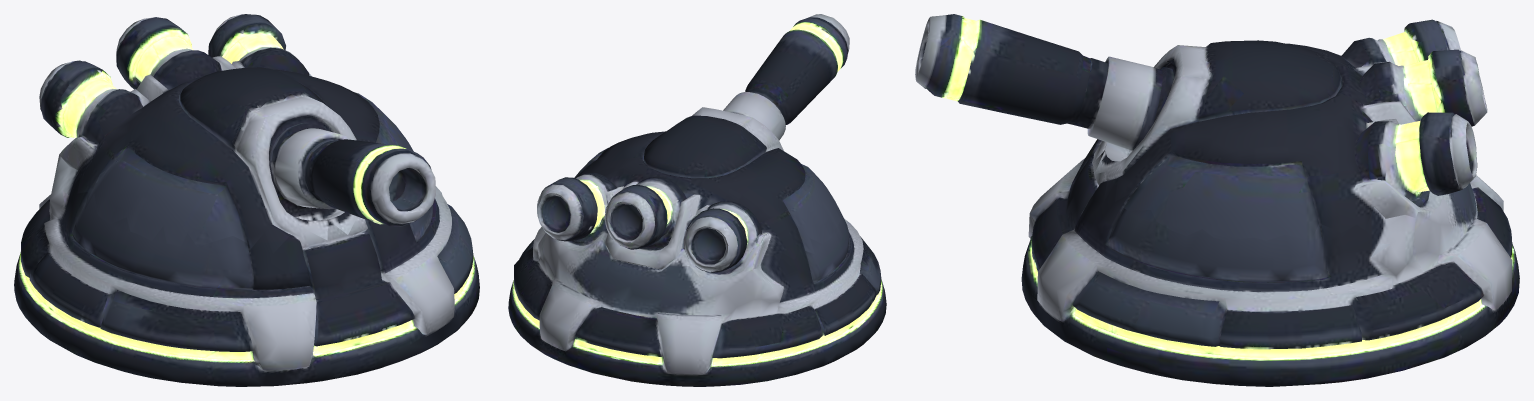
The model's file is warrior-6-tier-2.glb.
3 views of the same model, side by side, from view 1: azimuth 30°, elevation 25°; view 2: azimuth 150°, elevation 25°; view 3: azimuth 270°, elevation 25° (orthographic). The views are drawn at different scales.
Parts seen in each view (by area): view 1: fixed-platform, moving-assembly; view 2: fixed-platform, moving-assembly; view 3: moving-assembly, fixed-platform.
Part boxes in pixels (bbox=[...]): fixed-platform: bbox=[14, 155, 479, 386]; moving-assembly: bbox=[39, 14, 435, 253]; fixed-platform: bbox=[508, 200, 886, 386]; moving-assembly: bbox=[537, 14, 849, 278]; moving-assembly: bbox=[915, 14, 1487, 240]; fixed-platform: bbox=[1021, 139, 1519, 386].
Bounding box in the file's own units: 1.58 × 0.9529 × 1.92.
Materials: 1 (1 with a texture image).
